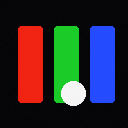2 circle: (61, 81, 85, 105)
